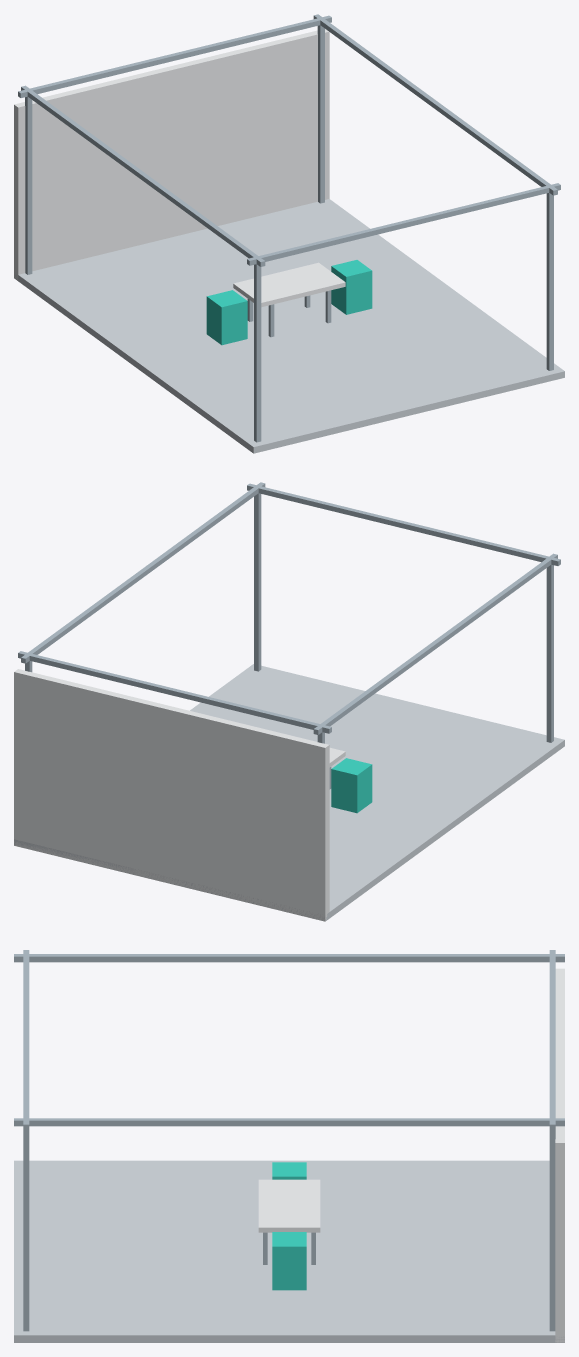
3 renders of one model, top to bottom at view 1: azimuth 30°, elevation 25°; view 2: azimuth 150°, elevation 25°; view 3: azimuth 270°, elevation 25°, orthographic. The views are drawn at different scales.
Parts seen in each view (by area): view 1: Exhibition Booth Concept; view 2: Exhibition Booth Concept; view 3: Exhibition Booth Concept.
Part boxes in pixels (bbox=[...]): Exhibition Booth Concept: bbox=[14, 14, 564, 453]; Exhibition Booth Concept: bbox=[14, 482, 564, 921]; Exhibition Booth Concept: bbox=[14, 950, 564, 1342].
Size of the model in its own units: 6 by 3.49 by 8.
